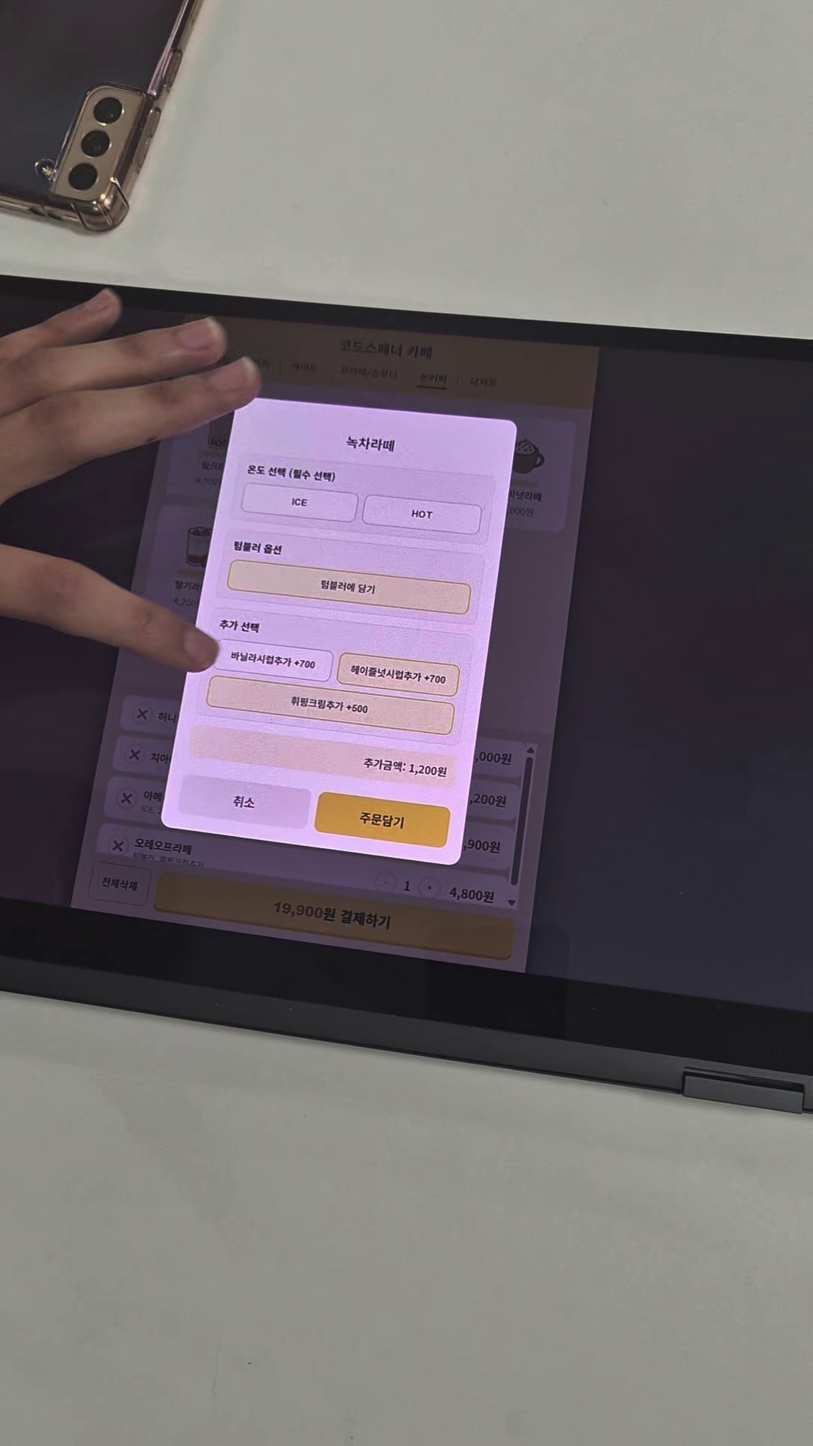action_button: (180, 771, 313, 830), (315, 791, 450, 849)
option_button: (206, 675, 454, 734), (226, 558, 470, 614), (337, 653, 460, 697), (212, 639, 335, 682), (242, 479, 358, 523), (362, 494, 482, 535)
popup_modal: (159, 392, 526, 876)
